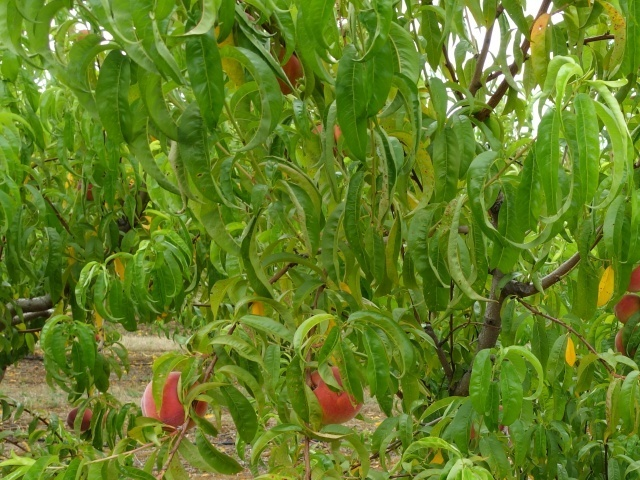peach: (136, 371, 212, 435), (300, 366, 367, 426), (267, 42, 307, 100), (609, 263, 640, 324), (607, 322, 634, 361), (63, 404, 96, 434)
